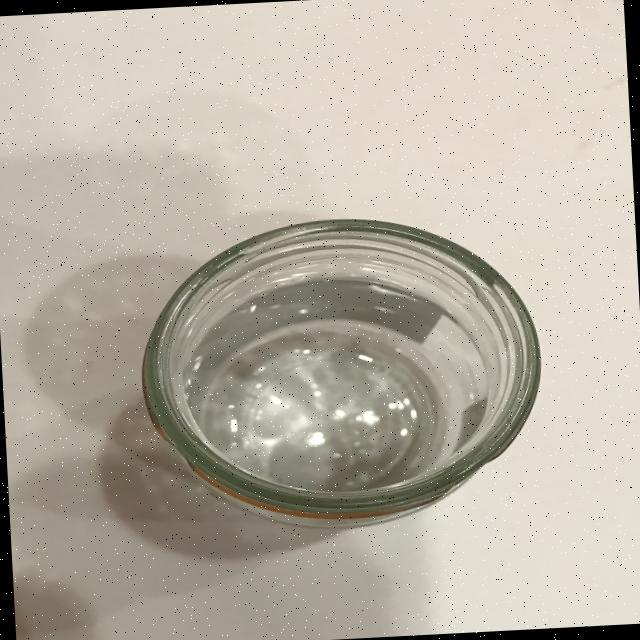glass: (120, 181, 568, 566)
